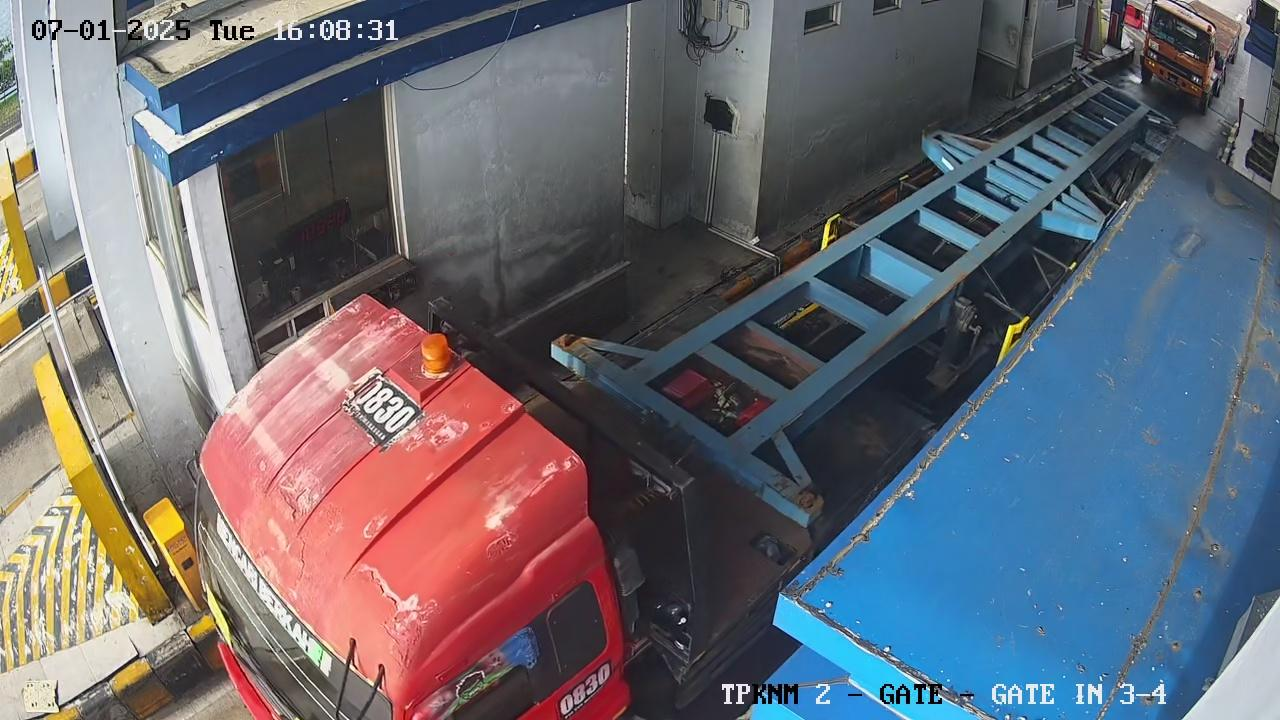truck_id: (342, 368, 423, 449), (552, 659, 615, 719)
